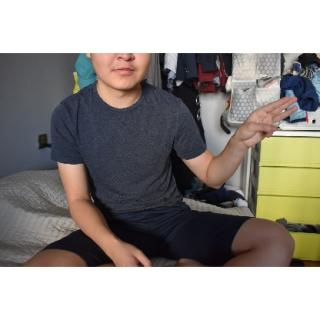THA: (234, 89, 304, 148)
